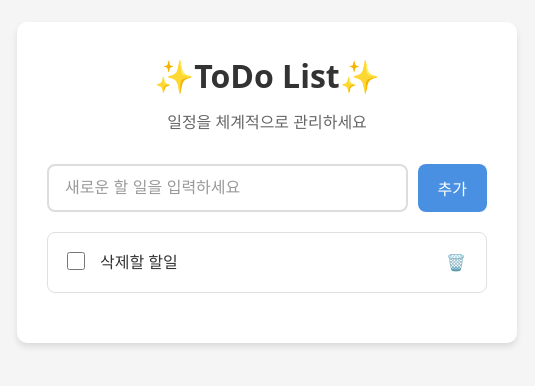
Scenario: Todo CRUD operations › deleteTodo › 할일을 삭제할 수 있다
Expected: the text "삭제할 할일" is shown, [100,251,178,273]
Click the button "🗑️": coordinates (456, 262) [441,248,471,276]
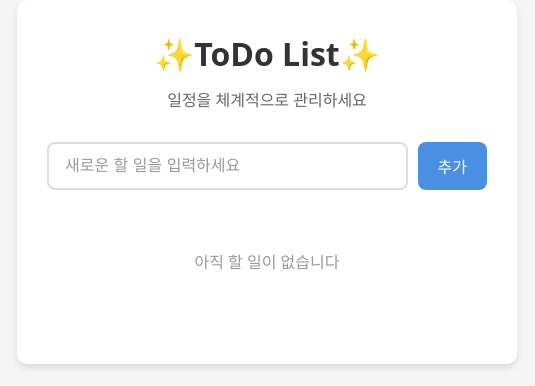
Result: the text "삭제할 할일" is gone
